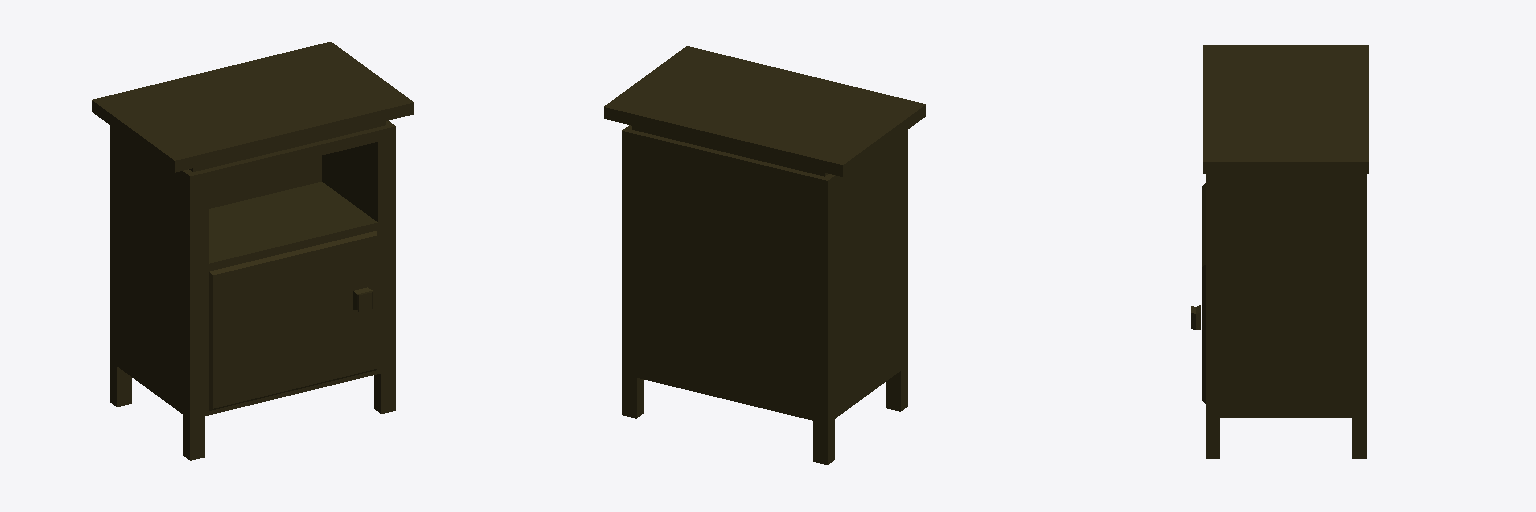
The model's file is EndTable.obj.
The picture shows the model from 3 angles: view 1: azimuth 30°, elevation 25°; view 2: azimuth 150°, elevation 25°; view 3: azimuth 270°, elevation 25°; orthographic projection.
Visible parts, largest first — view 1: Cube_Cube.005; view 2: Cube_Cube.005; view 3: Cube_Cube.005.
Boxes of the visible parts, x1,y1,x2,y2 form: Cube_Cube.005: [92, 42, 413, 460]; Cube_Cube.005: [604, 46, 925, 464]; Cube_Cube.005: [1191, 45, 1368, 458].
Size of the model in its own units: 2.34 by 2.84 by 1.51.